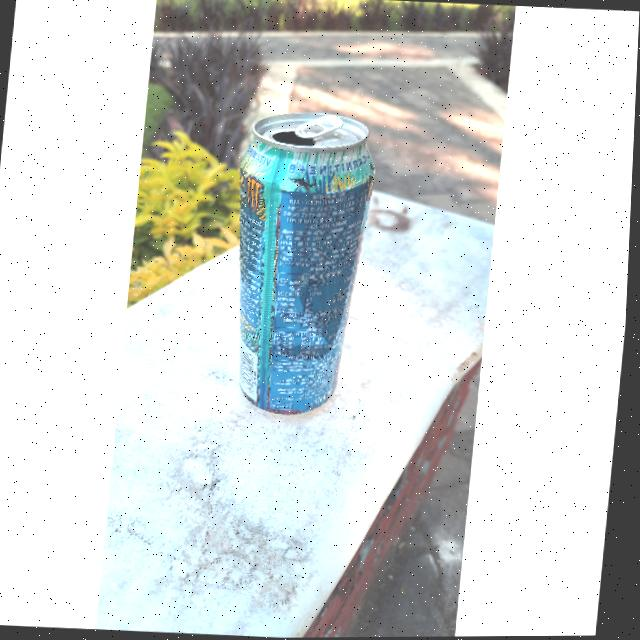Monster Aussie Lemonade: (226, 117, 376, 418)
